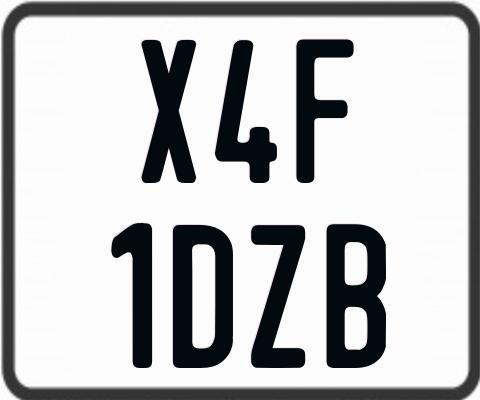1: (111, 223, 153, 371)
4: (213, 40, 278, 184)
B: (327, 222, 389, 368)
D: (173, 224, 239, 368)
F: (293, 38, 353, 188)
X: (139, 40, 198, 188)
Z: (249, 222, 307, 365)
